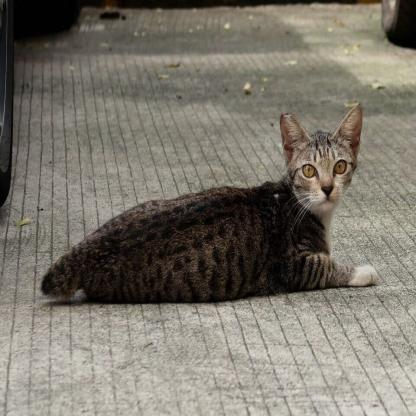cat: (52, 106, 364, 299)
